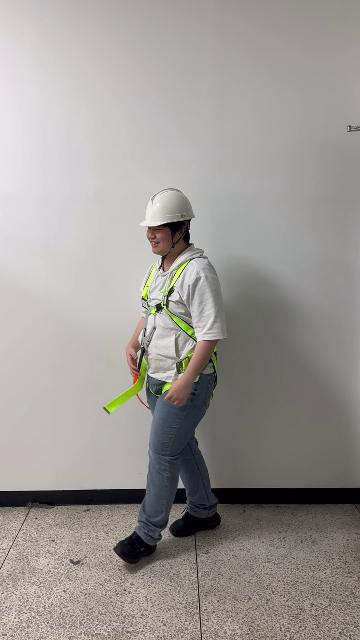helmet_worn: (139, 187, 197, 227)
shoe_not_worn: (112, 531, 157, 564), (169, 508, 220, 536)
vest_worn: (132, 258, 219, 398)
